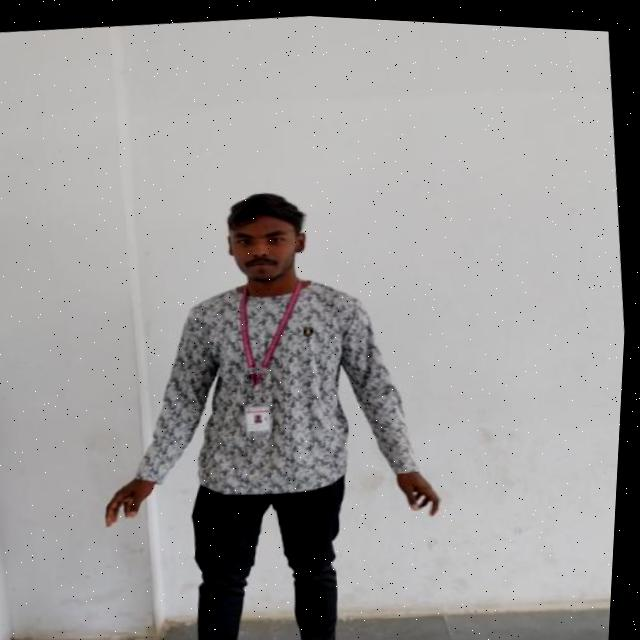id_card: (221, 268, 329, 441)
